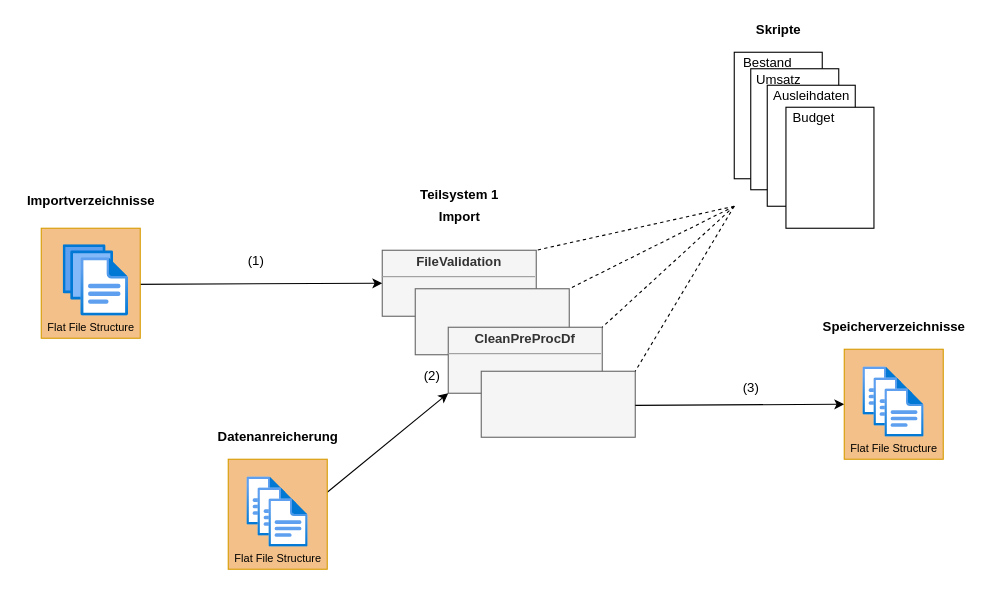
This 989x589 diagram has some shape labels left out. Here are the shapes that lost their labels. From the top down, the centre of each, then its label:
At (491,321): "FileImport".
At (557,403): "SaveDfToCSV".
